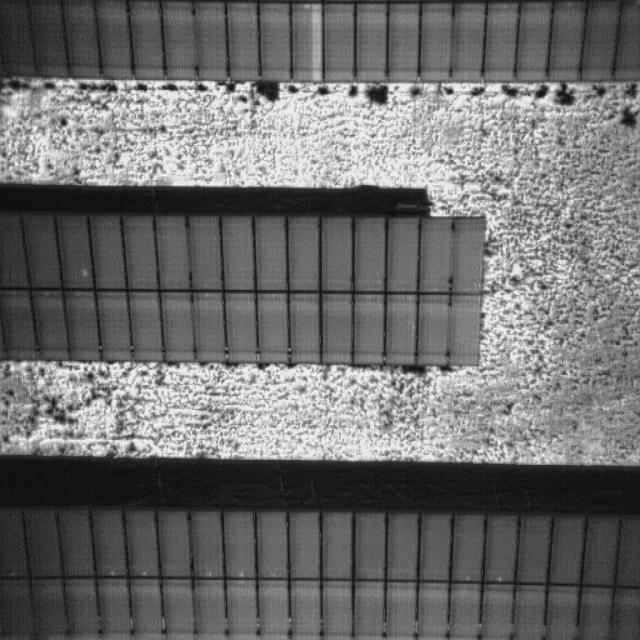diode: (306, 0, 326, 85)
hotspot: (77, 264, 89, 279)
